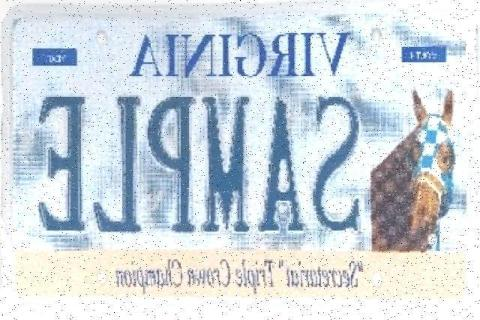LicensePlate: (30, 74, 364, 246)
